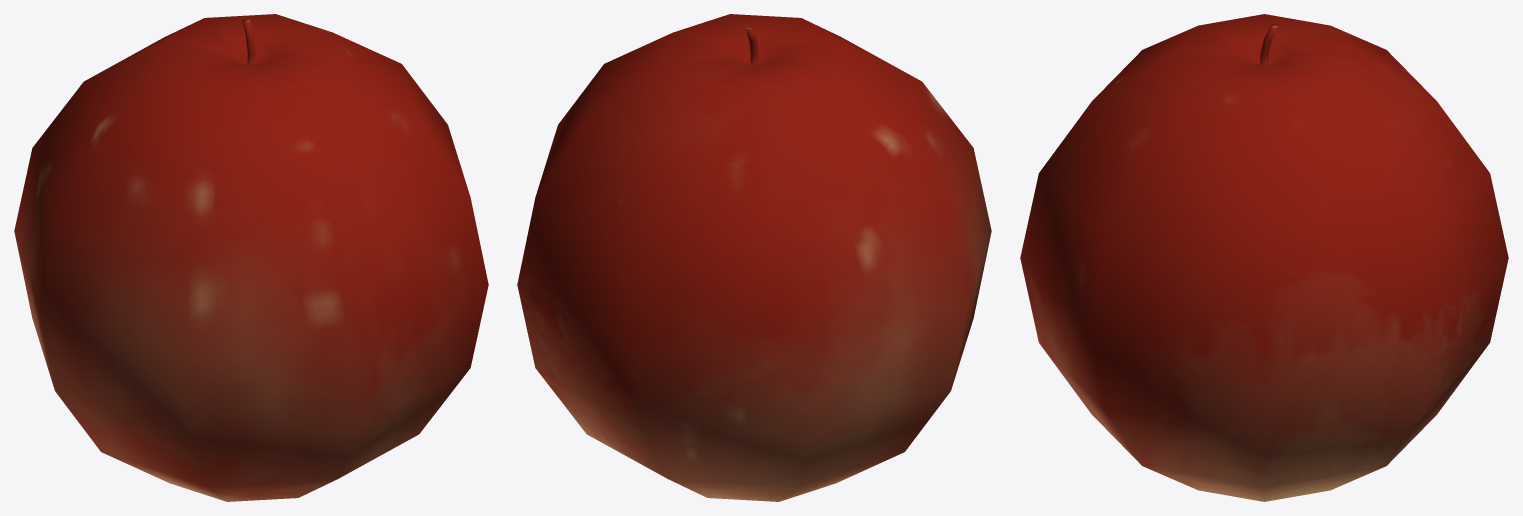
The model's file is apple_before_cooking.fbx.
3 renders of one model, left to right at view 1: azimuth 30°, elevation 25°; view 2: azimuth 150°, elevation 25°; view 3: azimuth 270°, elevation 25°, orthographic.
Visible parts, largest first — view 1: apple_before_cooking; view 2: apple_before_cooking; view 3: apple_before_cooking.
Part boxes in pixels (box(x1,y1,x2,y2)): apple_before_cooking: box(14, 14, 488, 501); apple_before_cooking: box(517, 14, 991, 501); apple_before_cooking: box(1020, 14, 1508, 501).
Bounding box in the file's own units: 5.49 × 5.41 × 5.49.
1 material, 1 textured.
